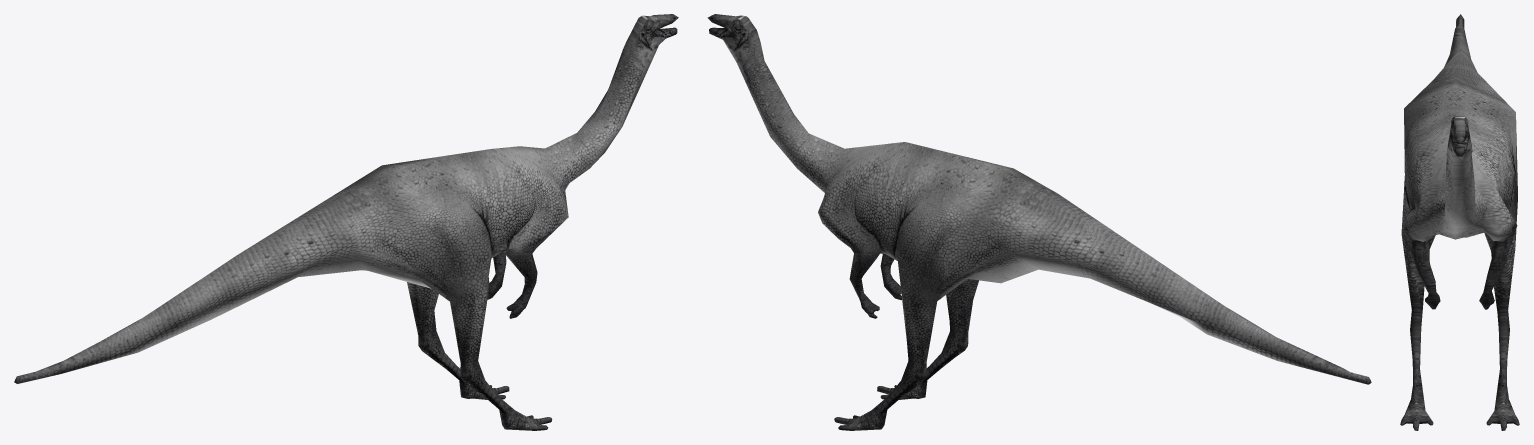
Rendered from dino.obj.
The picture shows the model from 3 angles, left to right: view 1: azimuth 30°, elevation 25°; view 2: azimuth 150°, elevation 25°; view 3: azimuth 270°, elevation 25°; orthographic projection. The views are drawn at different scales.
Parts seen in each view (by area): view 1: GallimVL; view 2: GallimVL; view 3: GallimVL.
Boxes of the visible parts, left/top/right/bottom form: GallimVL: left=14, top=14, right=678, bottom=430; GallimVL: left=707, top=14, right=1371, bottom=430; GallimVL: left=1400, top=14, right=1519, bottom=430.
Size of the model in its own units: 1083 by 562 by 164.
Materials: 1 (1 with a texture image).
